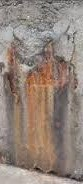Corrosion: (1, 40, 77, 173)
Spalling: (1, 1, 83, 32)
